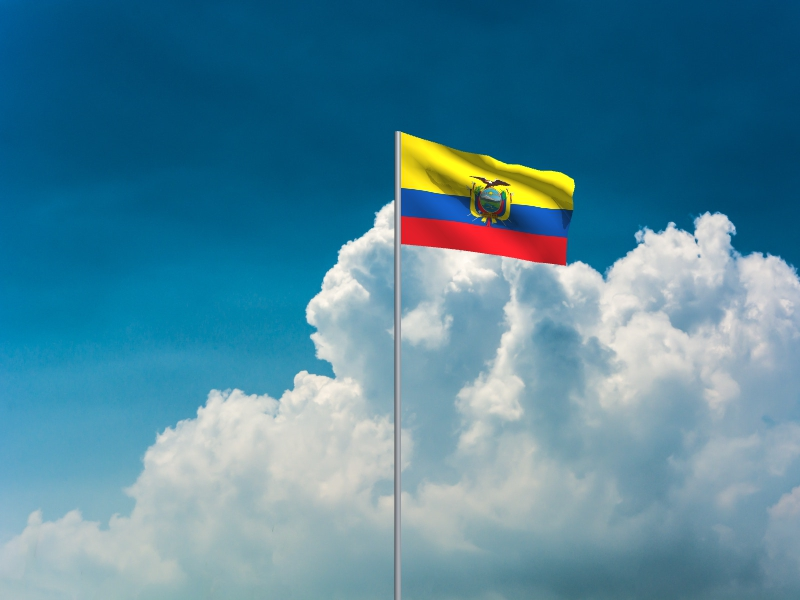ec: (401, 133, 577, 269)
